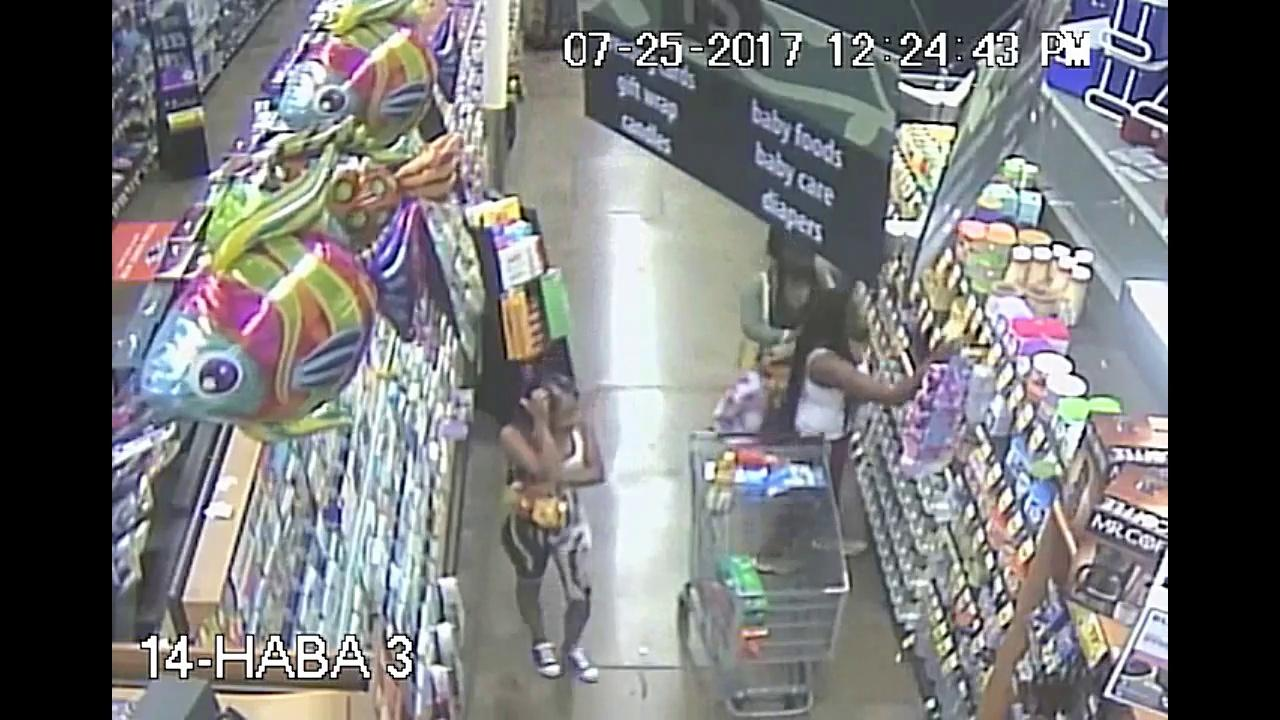3: (491, 320, 630, 704), (756, 236, 964, 481), (727, 166, 829, 311)
5: (686, 439, 850, 672)
persone: (706, 370, 775, 430)
